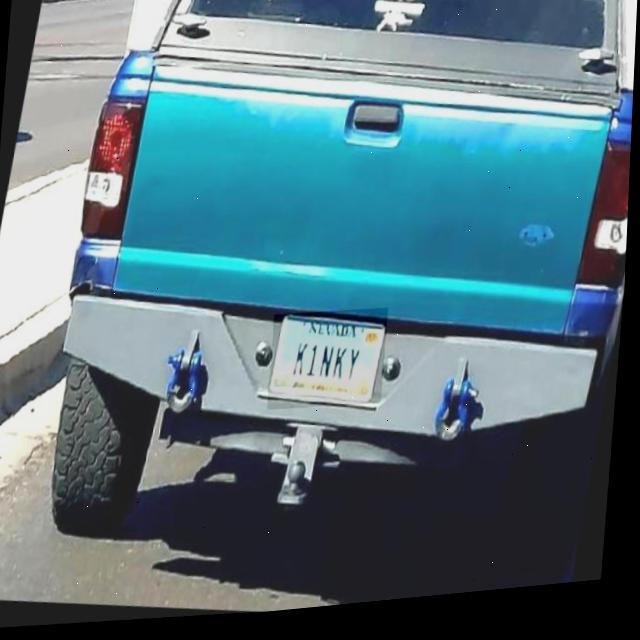LicensePlate: (272, 320, 390, 411)
